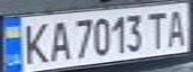0: (90, 14, 112, 57)
1: (109, 12, 130, 54)
3: (124, 11, 148, 52)
7: (69, 16, 93, 60)
A: (163, 6, 193, 48), (45, 17, 72, 63)
K: (18, 19, 51, 66)
T: (145, 8, 172, 51)
